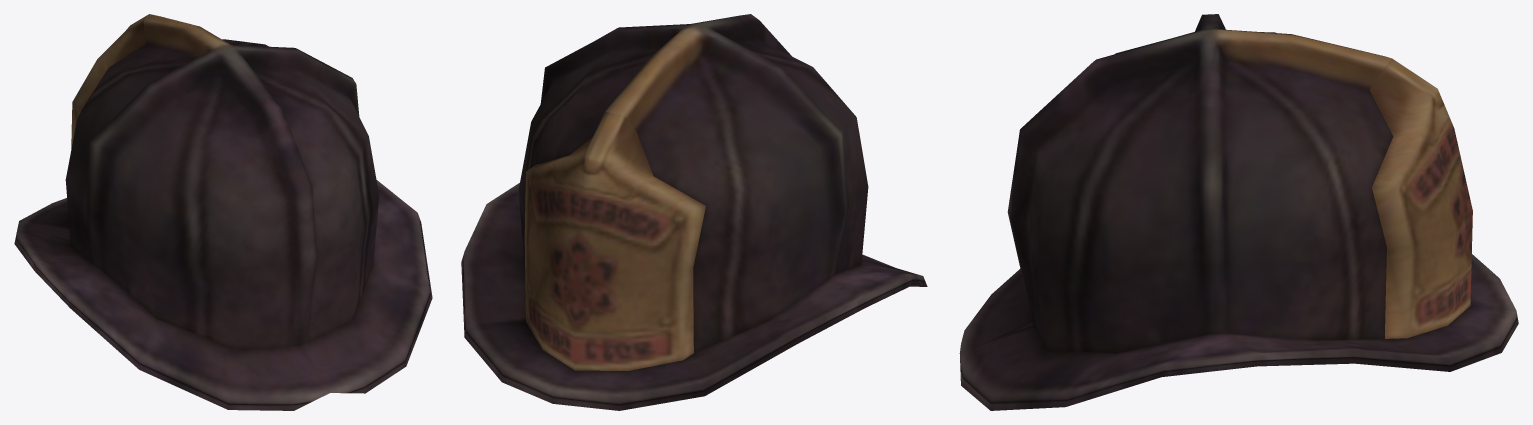
The model's file is fireFighterHat.glb.
The picture shows the model from 3 angles, left to right: view 1: azimuth 30°, elevation 25°; view 2: azimuth 150°, elevation 25°; view 3: azimuth 270°, elevation 25°; orthographic projection. The views are drawn at different scales.
Parts seen in each view (by area): view 1: fireFighterHat; view 2: fireFighterHat; view 3: fireFighterHat.
Boxes of the visible parts, box(x1,y1,x2,y2) form: fireFighterHat: box(14, 14, 432, 410); fireFighterHat: box(461, 14, 927, 410); fireFighterHat: box(959, 14, 1518, 410).
Size of the model in its own units: 0.4593 by 0.3518 by 0.5332.
Materials: 1 (1 with a texture image).
